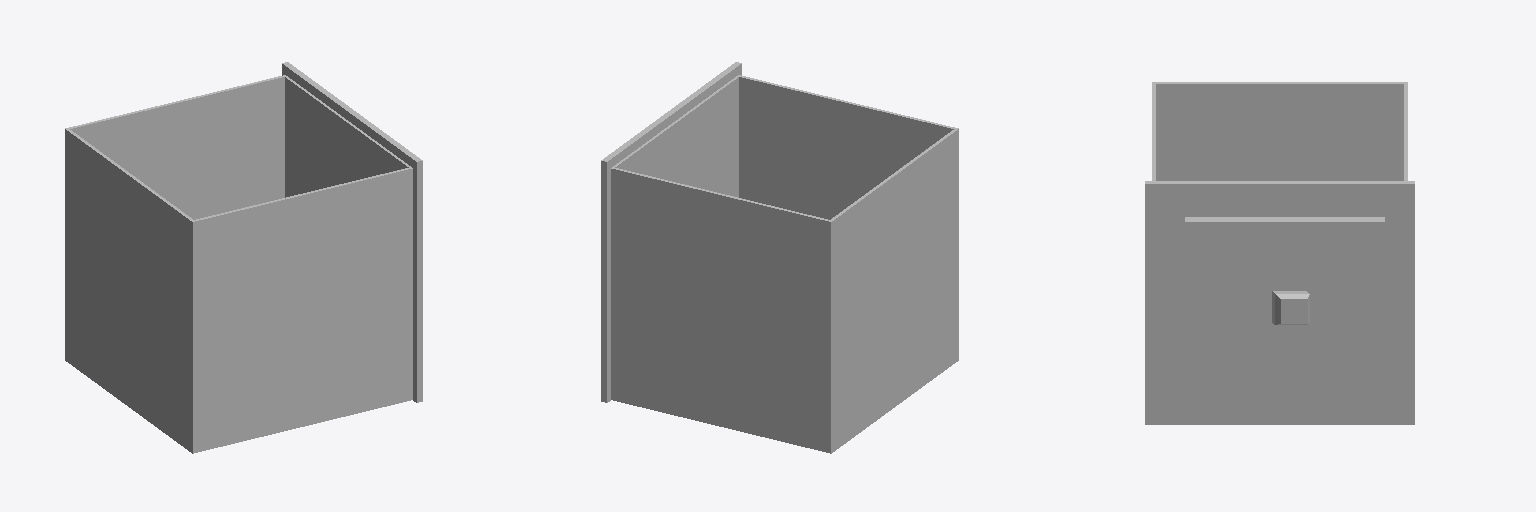
3 views of the same model, side by side, from view 1: azimuth 30°, elevation 25°; view 2: azimuth 150°, elevation 25°; view 3: azimuth 270°, elevation 25° (orthographic).
Parts seen in each view (by area): view 1: Plane_Plane.001; view 2: Plane_Plane.001; view 3: Plane_Plane.001.
Part boxes in pixels (x1,y1,x2,y2): Plane_Plane.001: (65, 62, 422, 453); Plane_Plane.001: (601, 62, 958, 453); Plane_Plane.001: (1145, 82, 1414, 424).
Size of the model in its own units: 6.15 by 5.57 by 5.64.